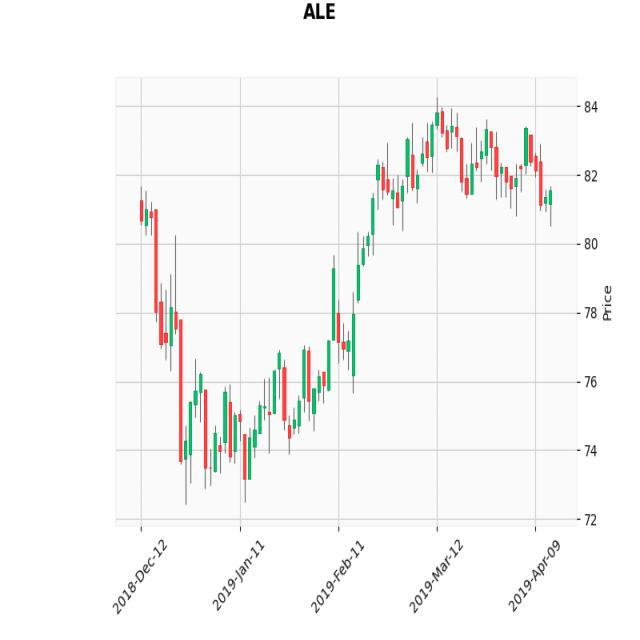Triple-Top: (419, 93, 561, 208)
